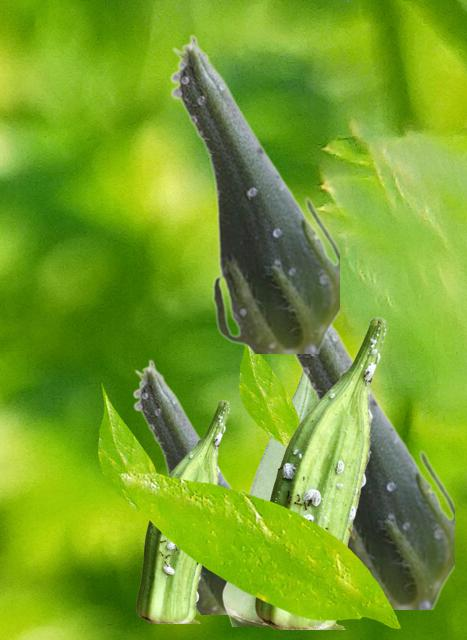okra: (169, 34, 338, 352), (286, 325, 453, 608), (255, 317, 386, 628), (132, 359, 247, 613), (222, 374, 316, 625), (136, 400, 229, 622)
